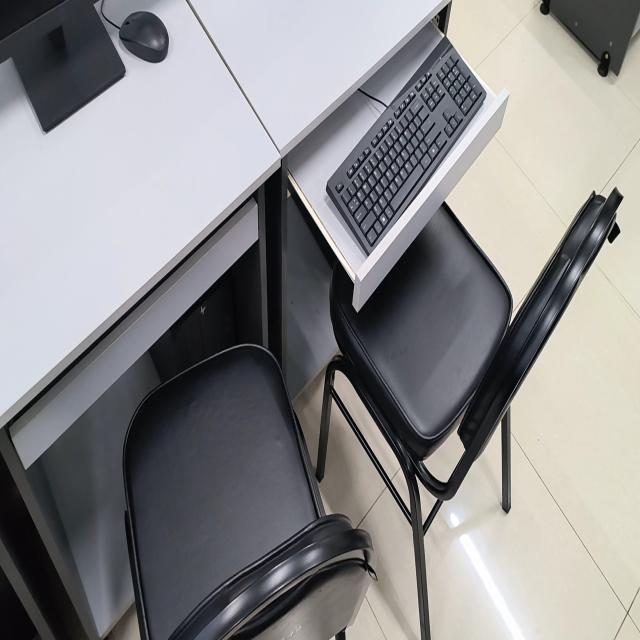Chair: (316, 188, 622, 639), (123, 344, 376, 639)
Cpu: (150, 283, 236, 381)
Keyboard: (326, 39, 486, 255)
Monitor: (0, 0, 128, 132)
Mouse: (119, 11, 169, 62)
